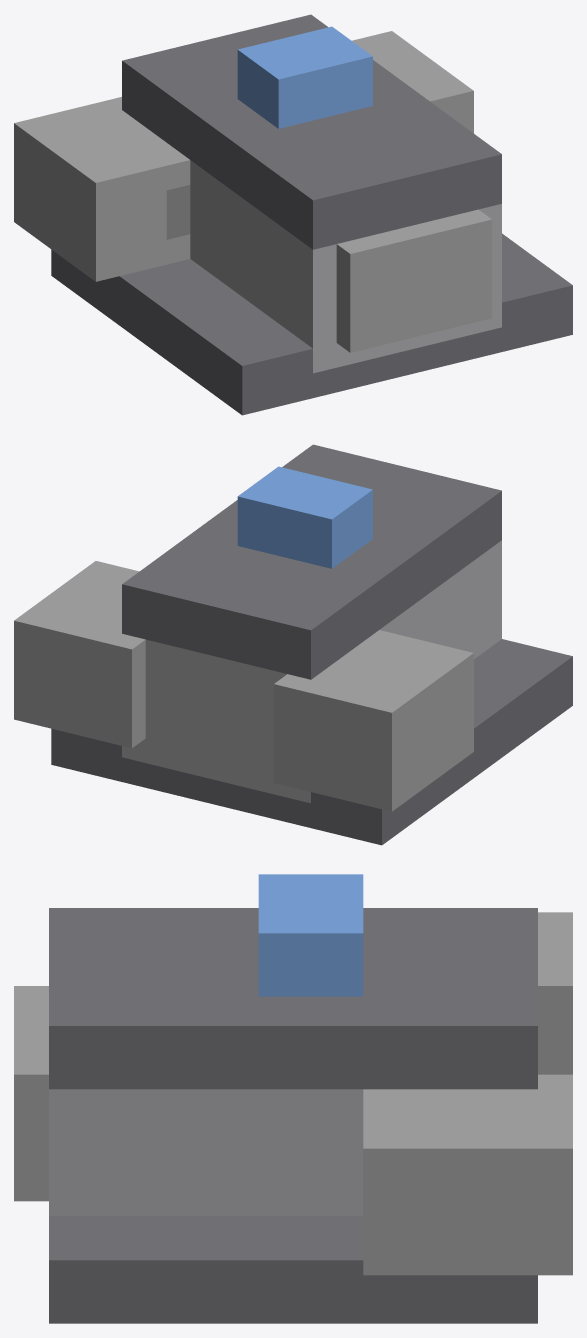
Rendered from splitter_machine.glb.
3 views of the same model, one above another, from view 1: azimuth 30°, elevation 25°; view 2: azimuth 150°, elevation 25°; view 3: azimuth 270°, elevation 25° (orthographic). The views are drawn at different scales.
Parts seen in each view (by area): view 1: VoxelModel; view 2: VoxelModel; view 3: VoxelModel.
Boxes of the visible parts, x1,y1,x2,y2 form: VoxelModel: [14, 14, 572, 415]; VoxelModel: [14, 444, 572, 845]; VoxelModel: [14, 874, 572, 1323].
Bounding box in the file's own units: 1 × 0.625 × 1.
